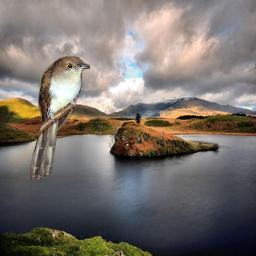Cuckoo: (30, 55, 90, 180)
